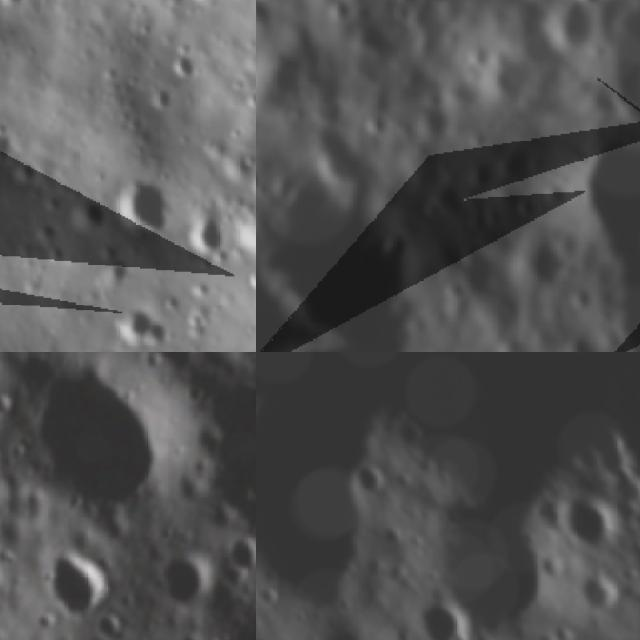crater: (410, 465, 604, 640), (256, 167, 433, 352), (22, 360, 188, 526), (551, 474, 638, 563), (256, 457, 287, 640), (508, 216, 581, 293), (111, 170, 187, 243), (399, 577, 486, 640), (49, 543, 103, 640), (436, 230, 504, 301), (566, 554, 629, 622), (533, 0, 604, 56), (344, 447, 404, 509), (477, 49, 535, 109), (163, 540, 200, 632), (188, 208, 241, 271), (307, 598, 386, 640), (61, 189, 110, 241), (410, 99, 453, 144), (497, 141, 538, 184), (358, 103, 398, 145), (256, 380, 288, 429), (461, 32, 496, 74), (228, 531, 256, 583), (559, 326, 605, 352), (256, 575, 286, 613), (545, 612, 585, 640), (91, 615, 128, 640), (180, 0, 231, 13), (0, 387, 6, 416)
